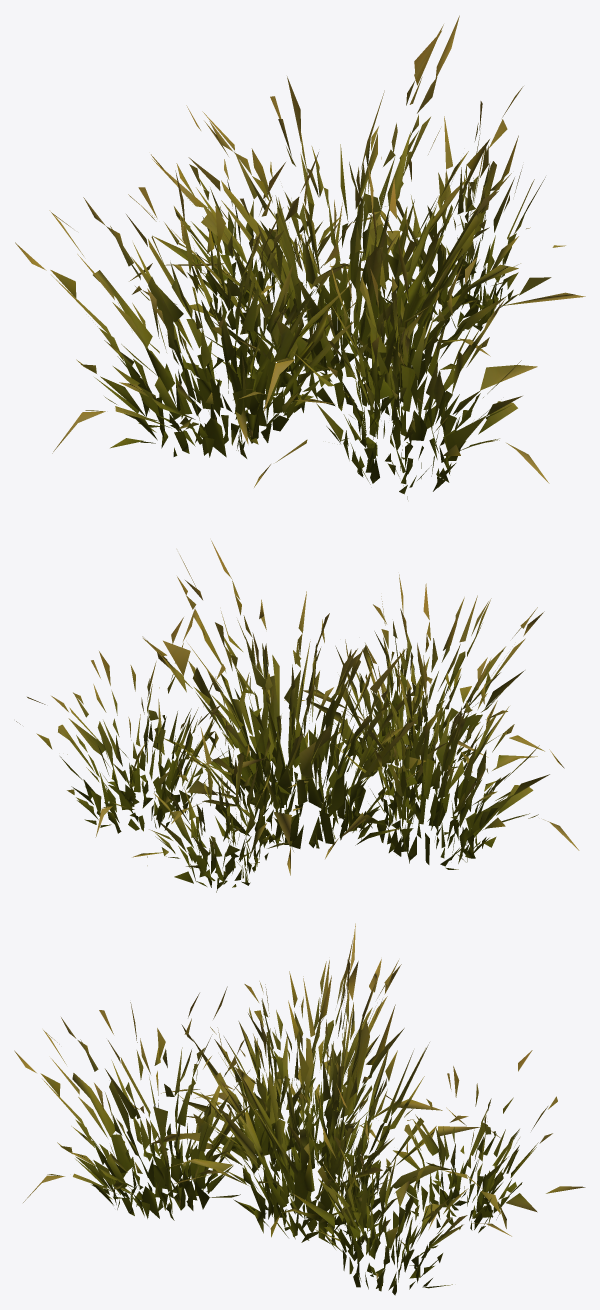
Rendered from desert_grass_fine_bush_lod1.glb.
3 renders of one model, top to bottom at view 1: azimuth 30°, elevation 25°; view 2: azimuth 150°, elevation 25°; view 3: azimuth 270°, elevation 25°, orthographic. The views are drawn at different scales.
Visible parts, largest first — view 1: desert_grass_fine_bush.001; view 2: desert_grass_fine_bush.001; view 3: desert_grass_fine_bush.001.
Part boxes in pixels (box(x1,y1,x2,y2)): desert_grass_fine_bush.001: box(15, 15, 585, 499); desert_grass_fine_bush.001: box(16, 540, 579, 892); desert_grass_fine_bush.001: box(14, 923, 585, 1295).
Bounding box in the file's own units: 1.42 × 0.8016 × 1.48.
1 material, 1 textured.
